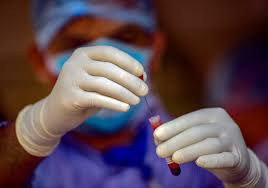Gloves: (22, 41, 151, 154), (153, 103, 264, 188)
